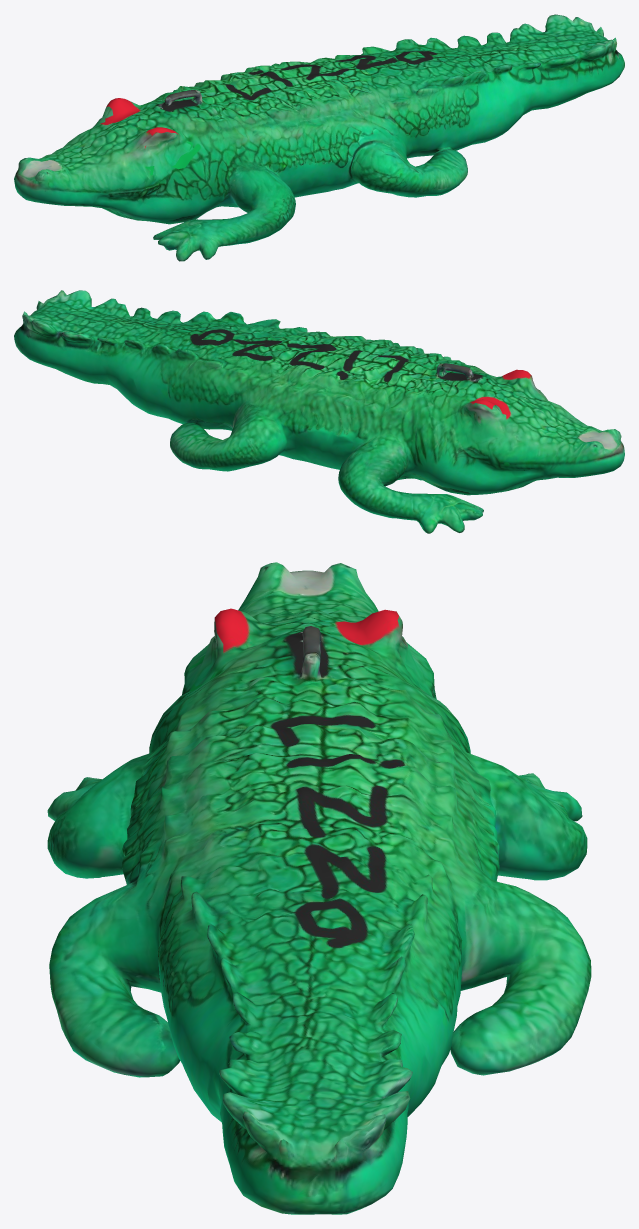
The model's file is Gator_Float.obj.
The picture shows the model from 3 angles, top to bottom: view 1: azimuth 30°, elevation 25°; view 2: azimuth 150°, elevation 25°; view 3: azimuth 270°, elevation 25°; orthographic projection. The views are drawn at different scales.
Parts seen in each view (by area): view 1: Mesh_0; view 2: Mesh_0; view 3: Mesh_0.
Part boxes in pixels (x1,y1,x2,y2): Mesh_0: (14,14,624,261); Mesh_0: (14,290,624,533); Mesh_0: (47,562,591,1214).
Bounding box in the file's own units: 2 × 0.3536 × 0.783.
